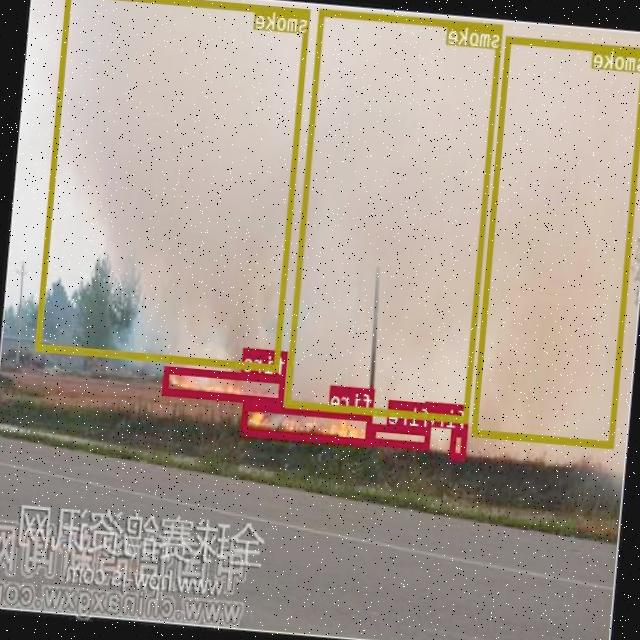fire: (242, 402, 373, 444), (162, 365, 286, 403), (371, 422, 432, 448), (450, 428, 468, 458)
smoke: (35, 0, 311, 370), (286, 8, 503, 421), (472, 34, 640, 447)
